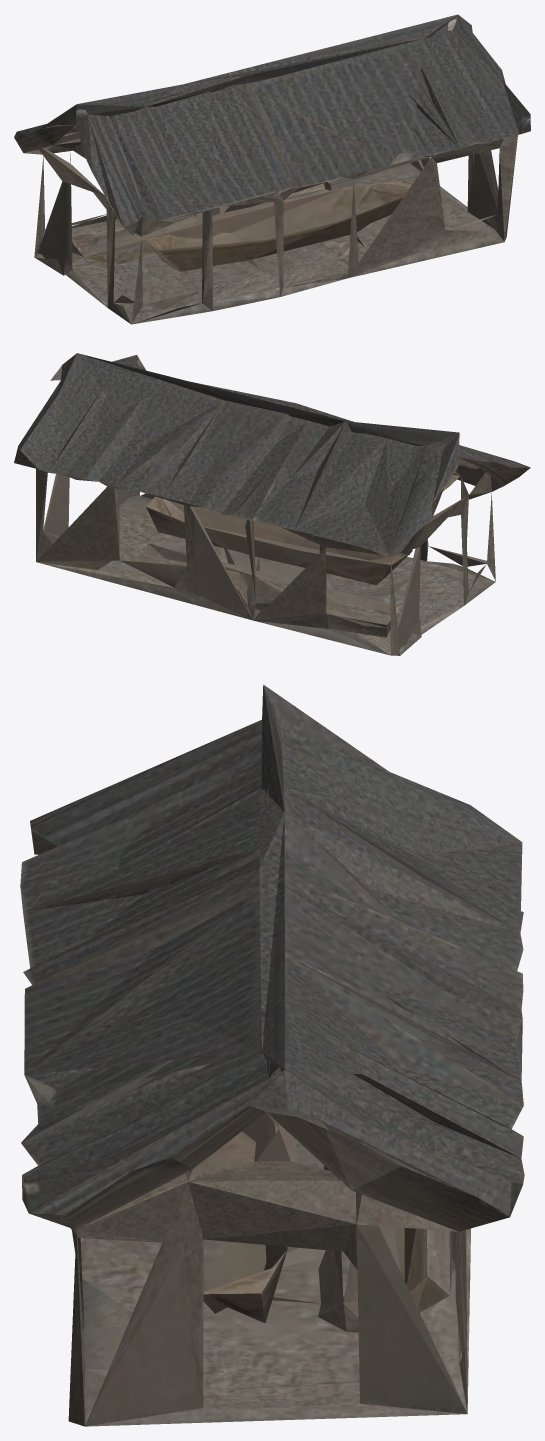
The model's file is shipyard.glb.
3 renders of one model, top to bottom at view 1: azimuth 30°, elevation 25°; view 2: azimuth 150°, elevation 25°; view 3: azimuth 270°, elevation 25°, orthographic. The views are drawn at different scales.
Visible parts, largest first — view 1: Mesh_0; view 2: Mesh_0; view 3: Mesh_0.
Part boxes in pixels (left/top/right/bottom): Mesh_0: left=14, top=14, right=530, bottom=324; Mesh_0: left=14, top=353, right=530, bottom=655; Mesh_0: left=20, top=684, right=524, bottom=1426.
Size of the model in its own units: 1.88 by 0.8373 by 1.01.
Materials: 1 (1 with a texture image).
